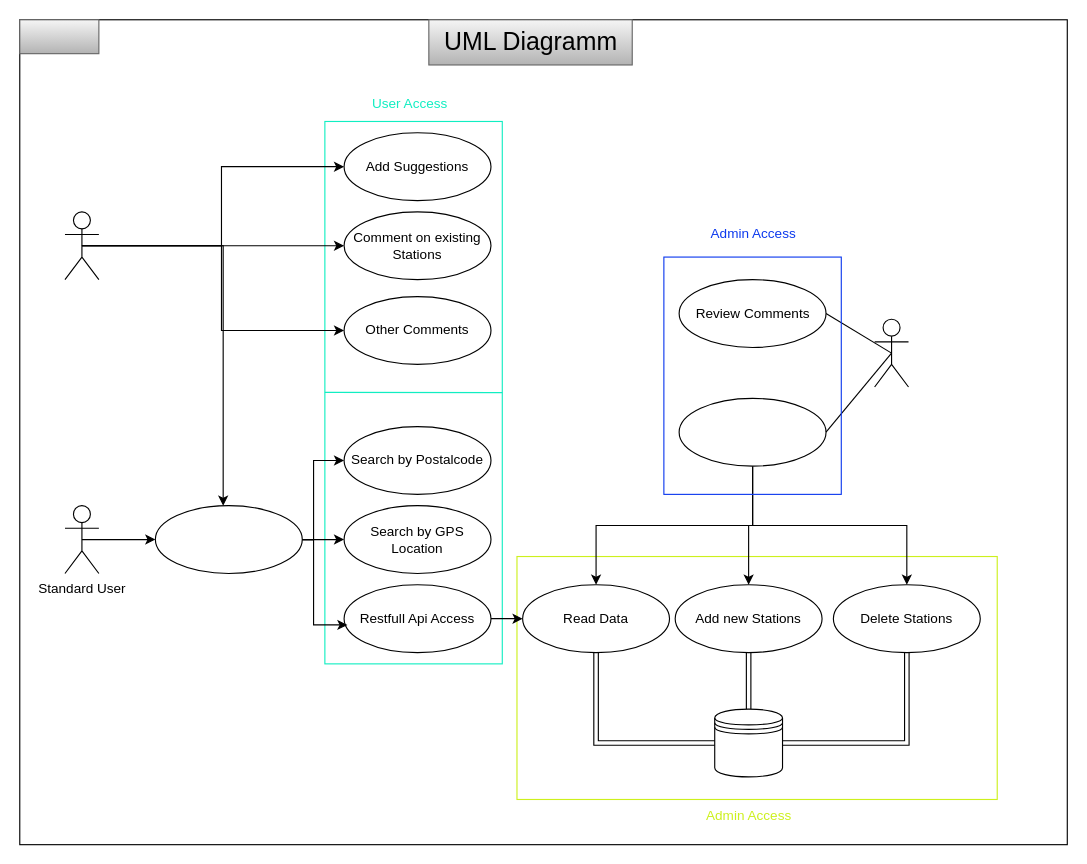
Some shapes in this 1087 by 864 pixel diagram are drawn without their labels. Here are the shapes that lost their labels. From the top down, the centre of each, then its label:
At point (59, 36): "Group 4".
At point (81, 245): "Registered User".
At point (891, 352): "Administrator".
At point (752, 431): "Restfull Api Admin Access".
At point (228, 539): "Open Access".
At point (748, 742): "Database".
